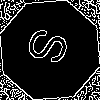S: (25, 25, 79, 71)
